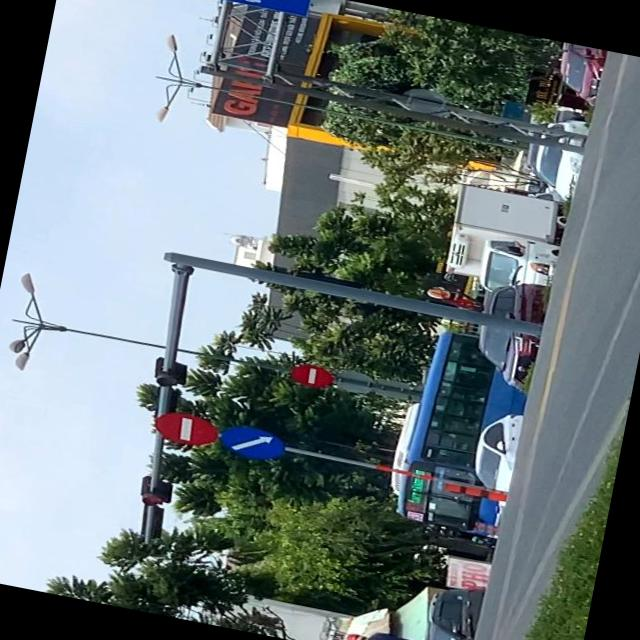P-102: (154, 408, 218, 449), (290, 361, 336, 390)
R-302a: (221, 422, 286, 464)
